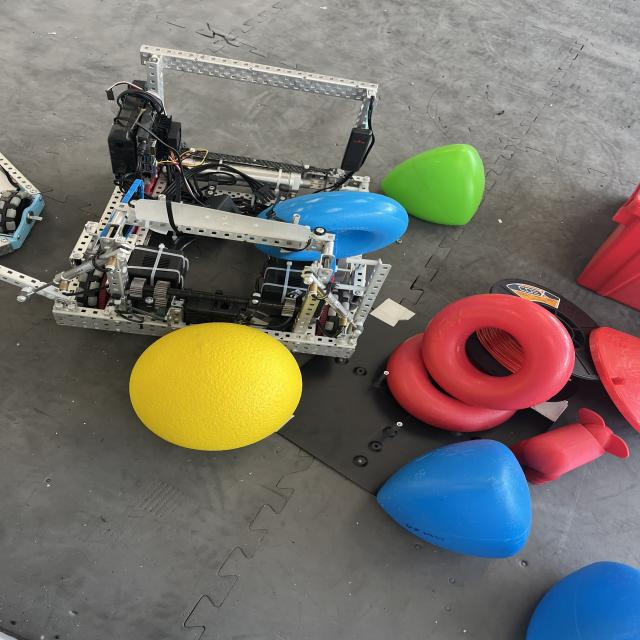Blue-Ring: (275, 191, 408, 259)
Red-Ring: (422, 294, 575, 410), (387, 334, 515, 431)
